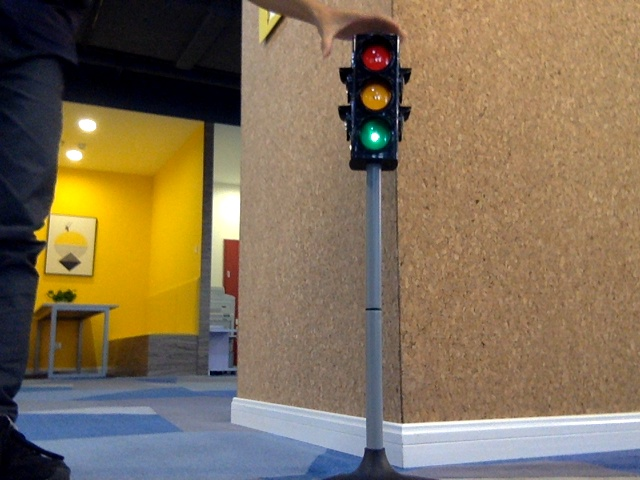green: (353, 38, 396, 156)
